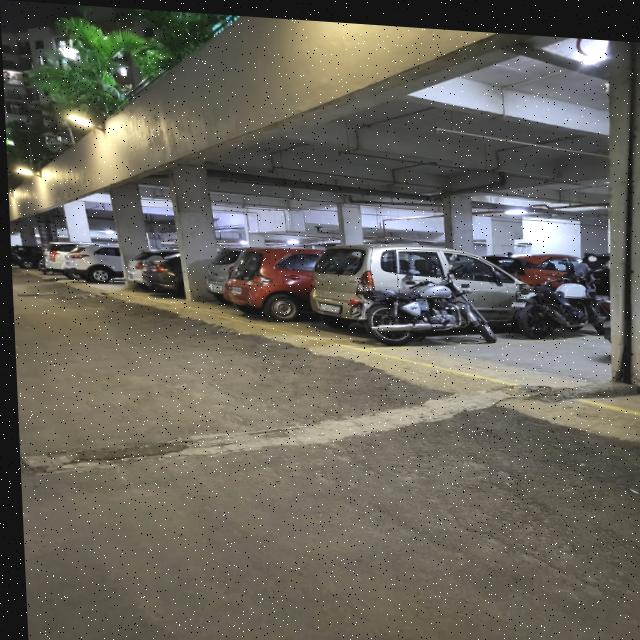bike: (355, 251, 492, 345), (504, 257, 601, 333)
car: (309, 236, 535, 330), (222, 240, 323, 321), (58, 236, 123, 288)
